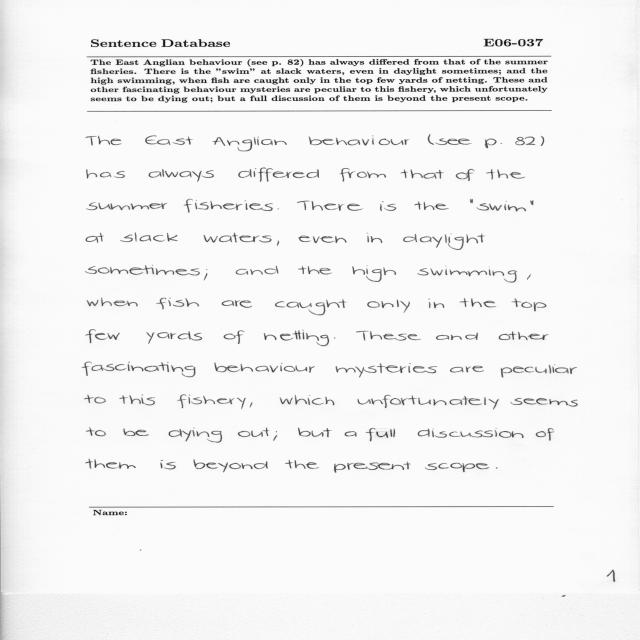word: (358, 395, 499, 410), (82, 362, 196, 377), (417, 266, 517, 283), (336, 363, 437, 377), (403, 233, 485, 250), (85, 265, 200, 276), (184, 199, 273, 213), (275, 299, 347, 315), (238, 168, 319, 182), (309, 135, 410, 146), (213, 137, 287, 152), (418, 428, 524, 438), (264, 330, 329, 346), (214, 363, 315, 373), (501, 365, 577, 378), (193, 459, 268, 472), (177, 395, 246, 409), (334, 461, 411, 473), (148, 169, 214, 182), (169, 428, 222, 443), (352, 265, 396, 282), (146, 331, 202, 344), (297, 200, 363, 211), (204, 233, 272, 243), (339, 168, 386, 182), (356, 331, 421, 341), (87, 203, 168, 211), (367, 299, 410, 313), (425, 463, 489, 472), (280, 395, 334, 405), (511, 398, 578, 406), (120, 233, 178, 242), (86, 459, 136, 469), (477, 201, 526, 211), (145, 135, 193, 145), (156, 298, 199, 309), (512, 299, 547, 312), (499, 332, 549, 341), (86, 330, 120, 343), (400, 169, 444, 179), (87, 298, 138, 306), (119, 395, 155, 406), (486, 169, 525, 179), (236, 266, 279, 275), (87, 169, 125, 179), (366, 428, 395, 441), (86, 136, 121, 146), (298, 236, 347, 243), (298, 428, 332, 438), (460, 298, 497, 307), (414, 201, 449, 210), (285, 460, 319, 469), (224, 330, 245, 344), (436, 333, 478, 340), (238, 428, 269, 437), (298, 266, 332, 274), (222, 300, 252, 308), (536, 428, 554, 441), (435, 139, 472, 145), (456, 169, 474, 181), (123, 428, 149, 436), (450, 366, 484, 372), (84, 395, 106, 404), (86, 233, 104, 243), (86, 428, 106, 437), (485, 139, 502, 149), (515, 137, 535, 145), (380, 201, 396, 211), (429, 299, 445, 309), (367, 233, 382, 243), (160, 460, 176, 469), (345, 431, 357, 437), (428, 134, 434, 145), (204, 269, 208, 280), (274, 431, 278, 441), (541, 136, 544, 146), (527, 274, 531, 280), (531, 200, 534, 205), (470, 199, 473, 203), (277, 240, 279, 246), (250, 402, 252, 408), (496, 467, 498, 469), (334, 337, 335, 339), (278, 209, 279, 210)
